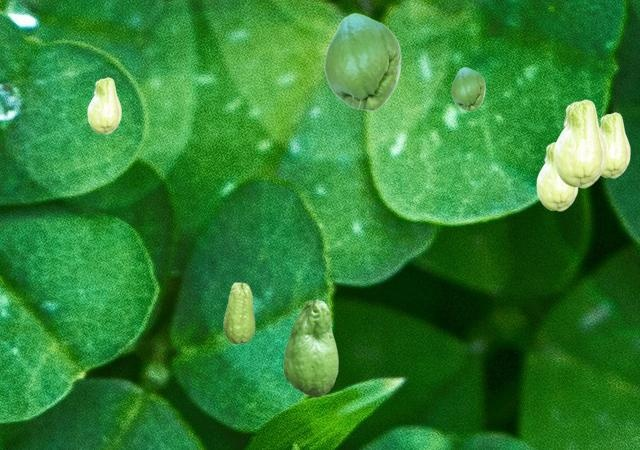sayote: (324, 13, 400, 110), (283, 299, 337, 396), (553, 99, 605, 187), (536, 141, 577, 210), (223, 282, 254, 343), (600, 112, 629, 177), (87, 77, 120, 133), (451, 67, 484, 110)
